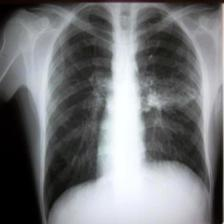tuberculosis: (38, 2, 212, 224)
